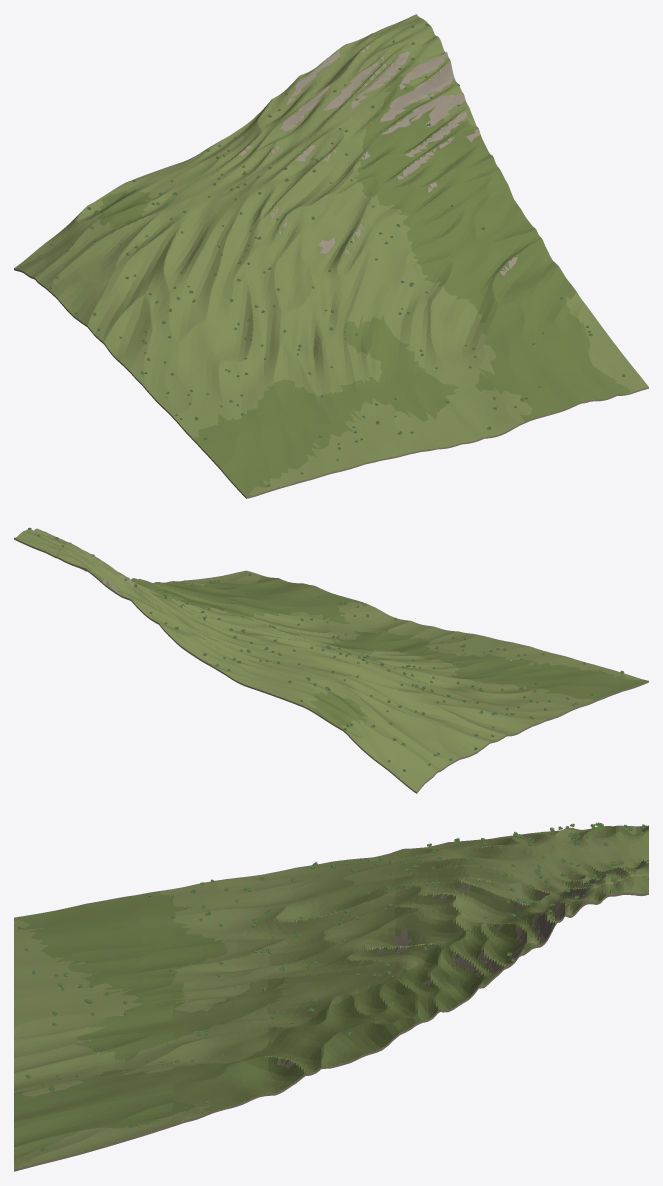
File: parca_+4_-7-yakin.glb
3 views of the same model, one above another, from view 1: azimuth 30°, elevation 25°; view 2: azimuth 150°, elevation 25°; view 3: azimuth 270°, elevation 25° (orthographic). The views are drawn at different scales.
Parts seen in each view (by area): view 1: parca_+4_-7_arazi, parca_+4_-7_bitkiler; view 2: parca_+4_-7_arazi, parca_+4_-7_bitkiler; view 3: parca_+4_-7_arazi, parca_+4_-7_bitkiler.
Part boxes in pixels (x1=…): parca_+4_-7_arazi: x1=14, y1=14, x2=648, y2=498; parca_+4_-7_bitkiler: x1=37, y1=23, x2=625, y2=486; parca_+4_-7_arazi: x1=14, y1=528, x2=648, y2=793; parca_+4_-7_bitkiler: x1=28, y1=527, x2=624, y2=771; parca_+4_-7_arazi: x1=14, y1=825, x2=648, y2=1171; parca_+4_-7_bitkiler: x1=17, y1=822, x2=645, y2=1151.
Bounding box in the file's own units: 1002 × 518 × 1000.
